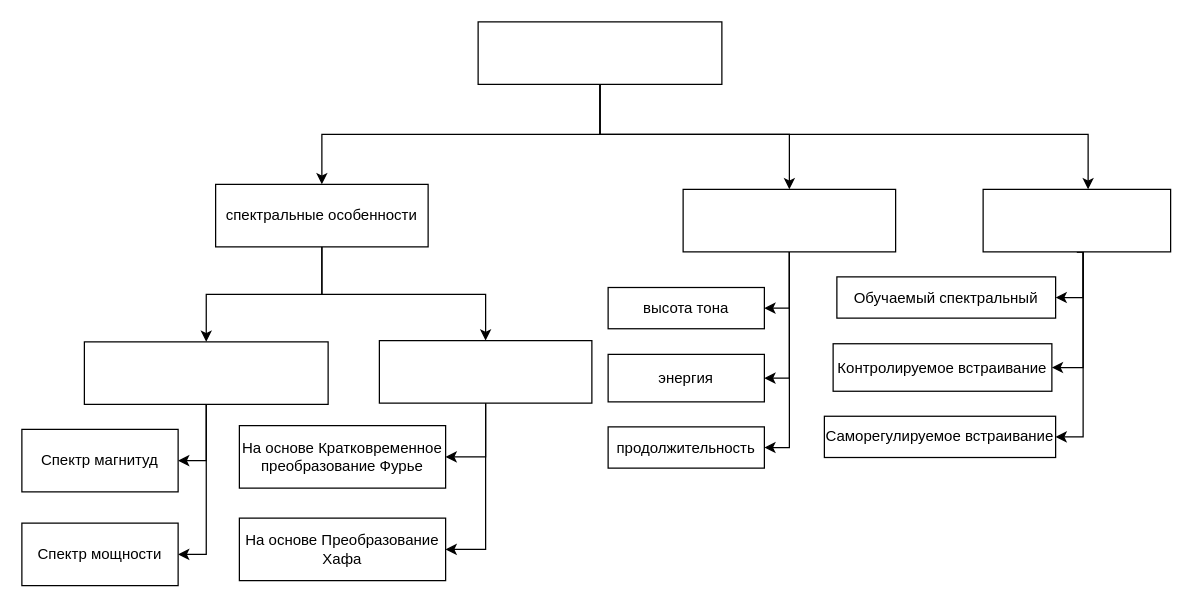
The diagram is 1193 pixels wide and 608 high, and some of its shapes have lost their labels. Here are the shapes that lost their labels. From the top down, the box of each, then its label:
(477, 21, 722, 84): Отличительные признаки аудио
(682, 188, 896, 252): просодические особенности
(982, 188, 1171, 252): глубокие особенности
(83, 341, 328, 404): кратковременные спектральные особенности
(378, 339, 592, 403): долгосрочные спектральные особенности
